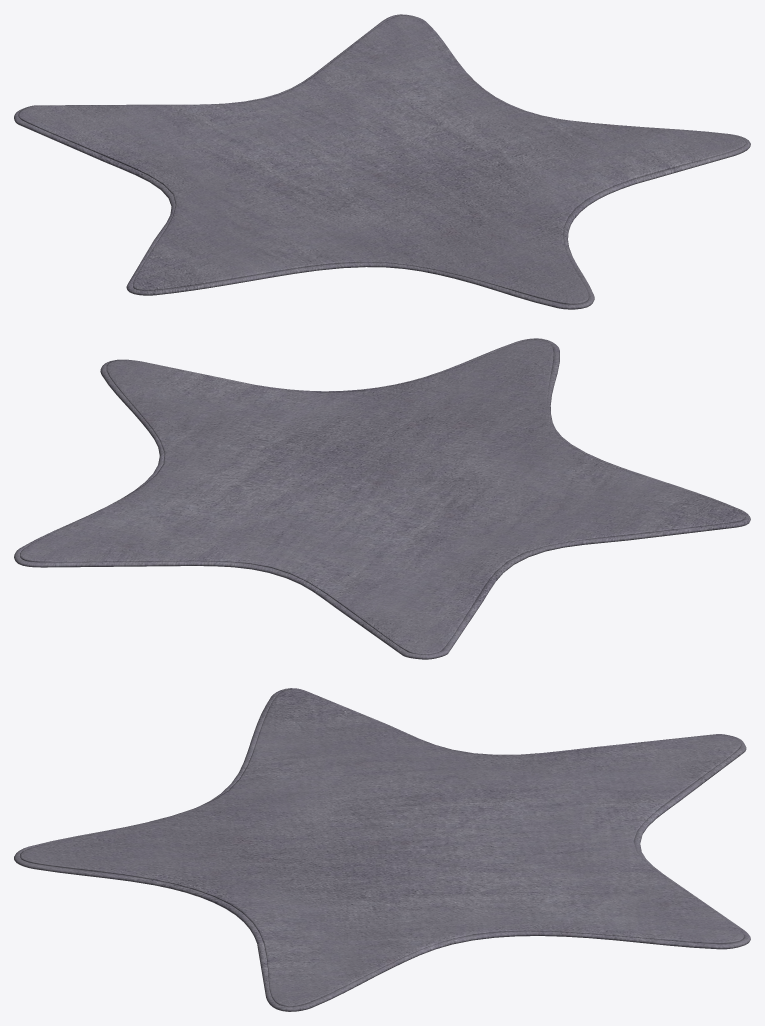
Rendered from Сarpet.fbx.
The picture shows the model from 3 angles, top to bottom: view 1: azimuth 30°, elevation 25°; view 2: azimuth 150°, elevation 25°; view 3: azimuth 270°, elevation 25°; orthographic projection. The views are drawn at different scales.
Visible parts, largest first — view 1: rug; view 2: rug; view 3: rug.
Boxes of the visible parts, x1,y1,x2,y2 form: rug: [14, 14, 750, 309]; rug: [14, 338, 750, 659]; rug: [14, 688, 750, 1011].
Bounding box in the file's own units: 100 × 0.7994 × 96.81.
